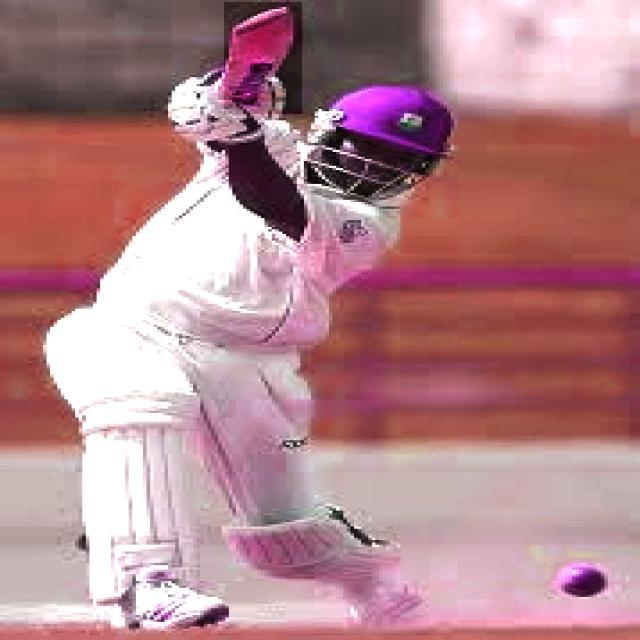bat: (225, 1, 304, 116)
toe: (229, 6, 293, 37)
